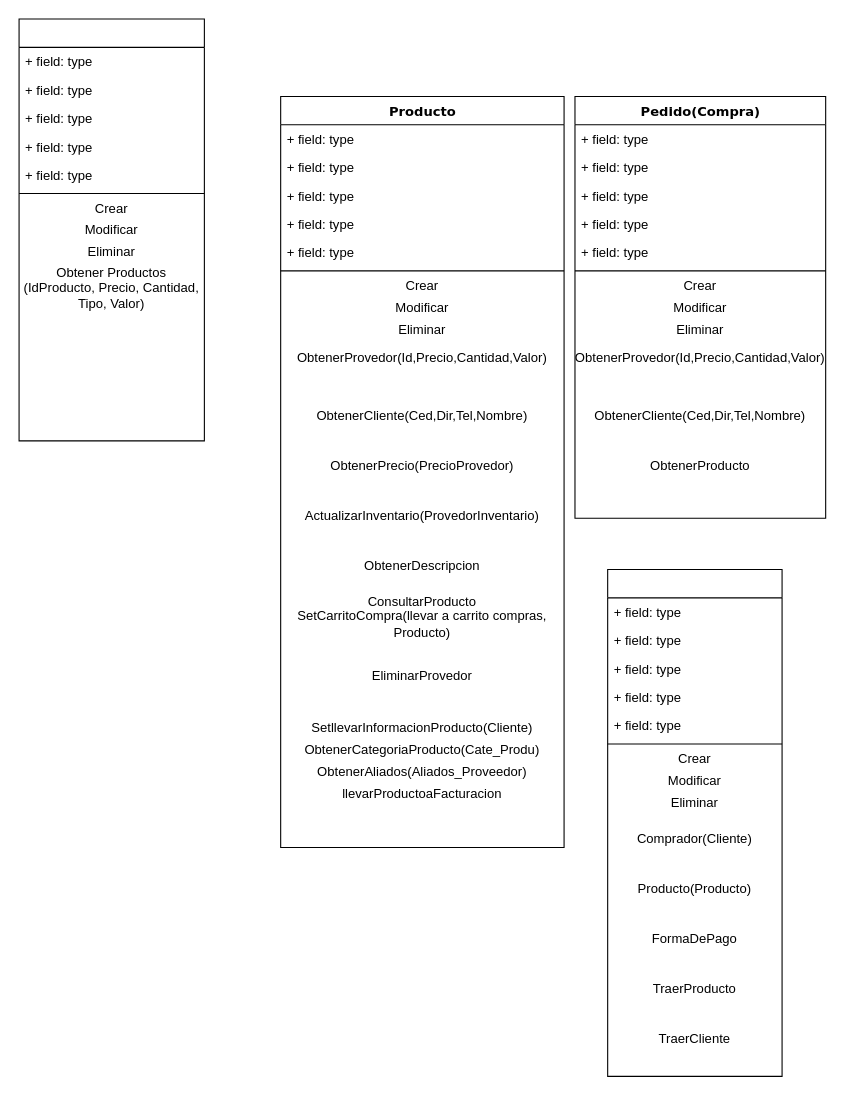
Image size: 845x1095. Some labels were removed from this diagram. Here are the shapes that lost their labels. From the top down, the box of each, then its label:
(18, 18, 204, 441): Proveedor
(607, 568, 782, 1076): Facturación
